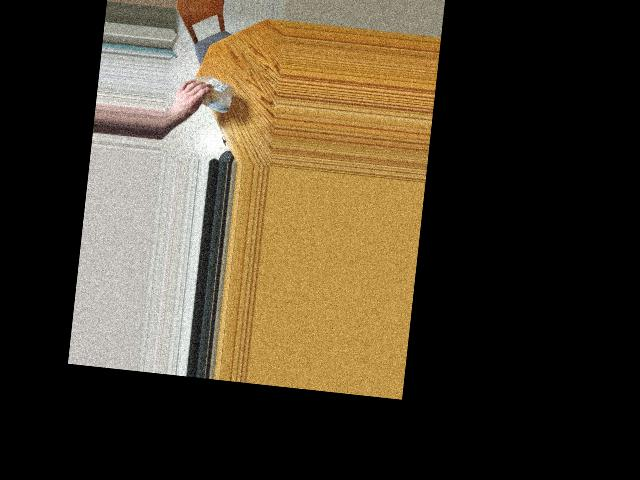cheese: (190, 73, 232, 111)
